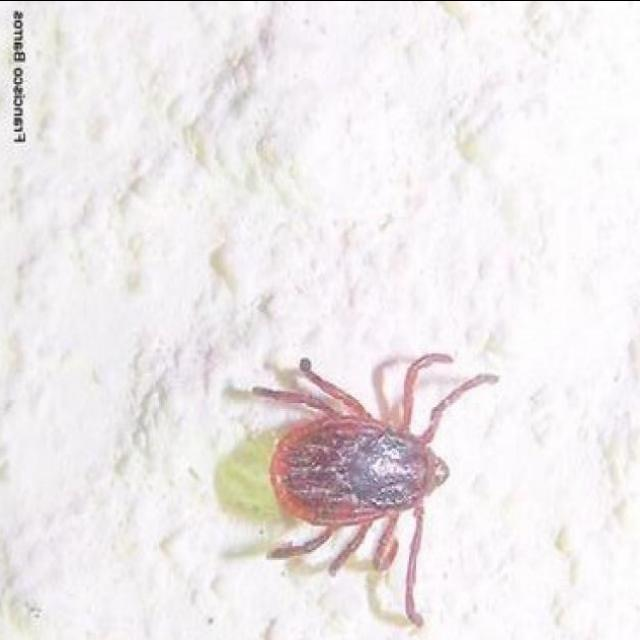Rhipicephalus Sanguineus-F: (249, 353, 500, 628)
